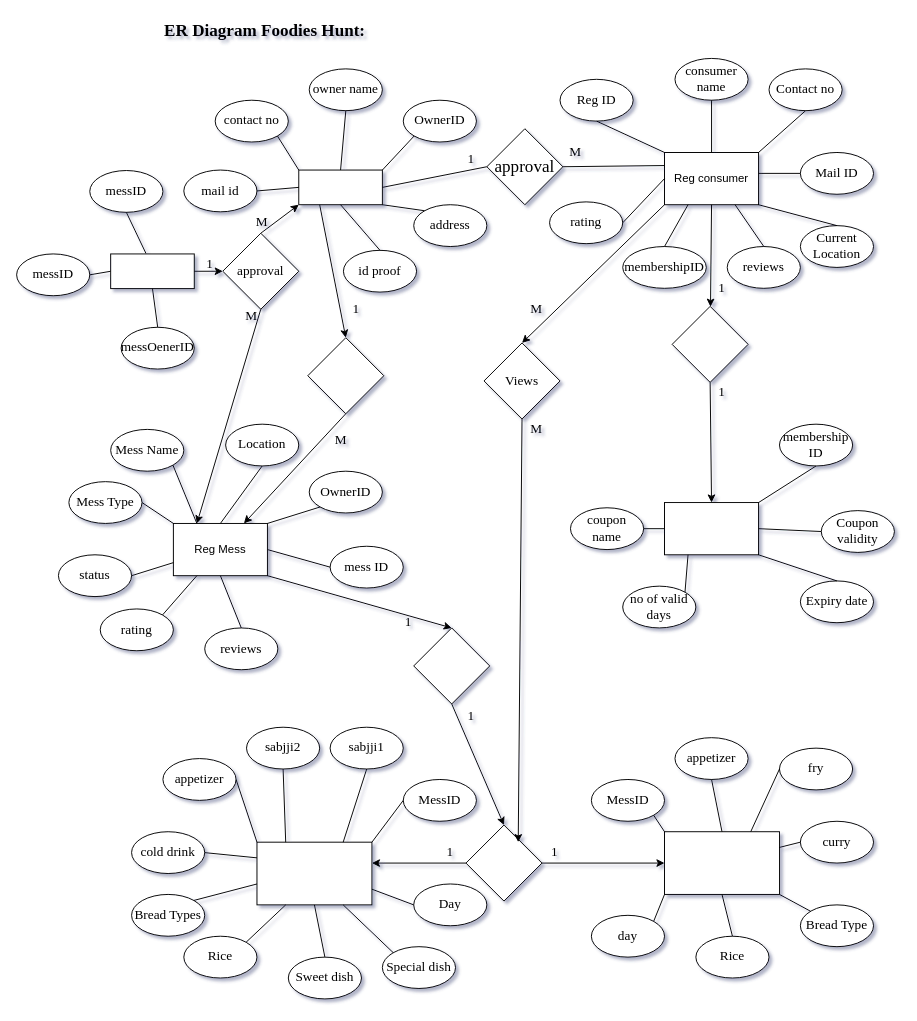
The diagram is 917 pixels wide and 1021 high, and some of its shapes have lost their labels. The centre of each missing label's shape, as x and y in pixels:
Admin: the point at 152,271
has a: the point at 345,375
may have: the point at 709,343
membership status: the point at 711,528
menus: the point at 503,862
Mess Owner: the point at 340,187
Non Veg Menu: the point at 721,862
provides: the point at 451,665
Veg Menu: the point at 314,873
